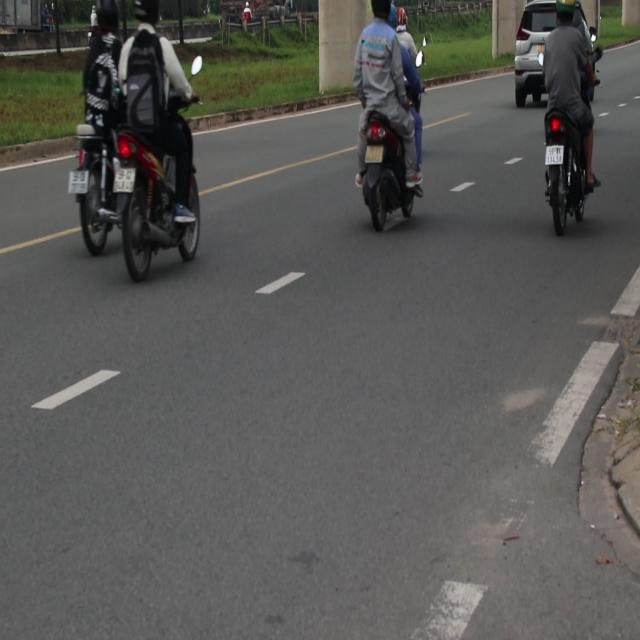car: (512, 0, 599, 110)
motorbike: (110, 111, 204, 291), (46, 84, 116, 274), (529, 119, 596, 243), (355, 108, 418, 234)
